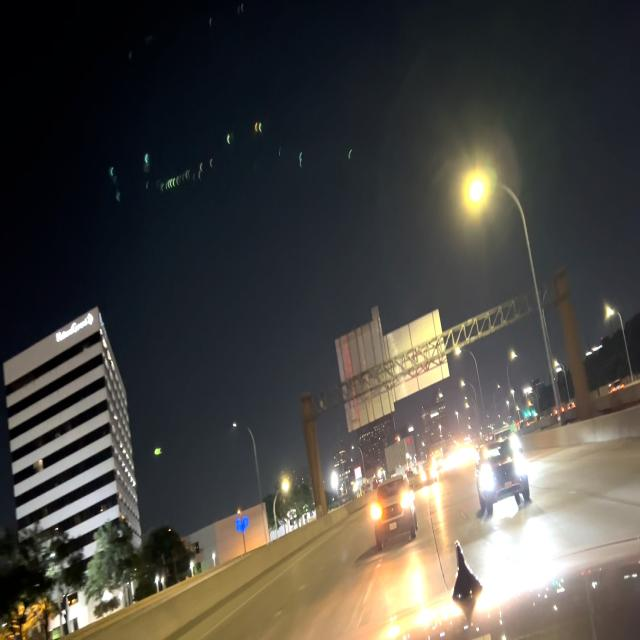back-of-sign: (334, 304, 449, 434)
